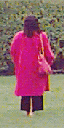person: (9, 15, 53, 116)
